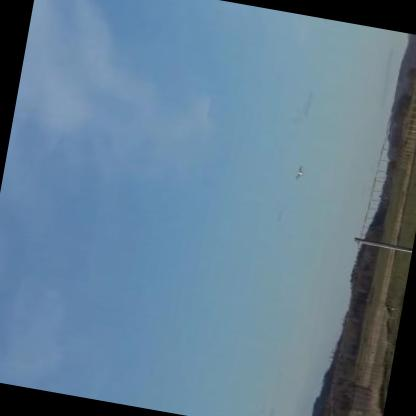plane: (294, 162, 308, 181)
